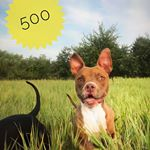puppy: (66, 46, 126, 150)
